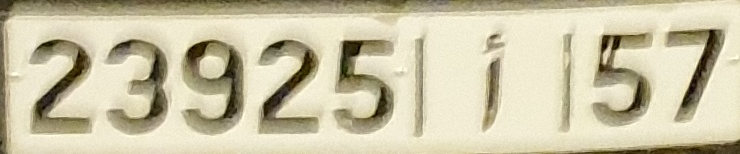2: (25, 37, 99, 137), (256, 36, 324, 137)
3: (103, 37, 173, 137)
5: (332, 36, 399, 138), (593, 29, 658, 128)
7: (663, 25, 727, 125)
9: (181, 38, 246, 139)
a: (478, 29, 510, 134)
